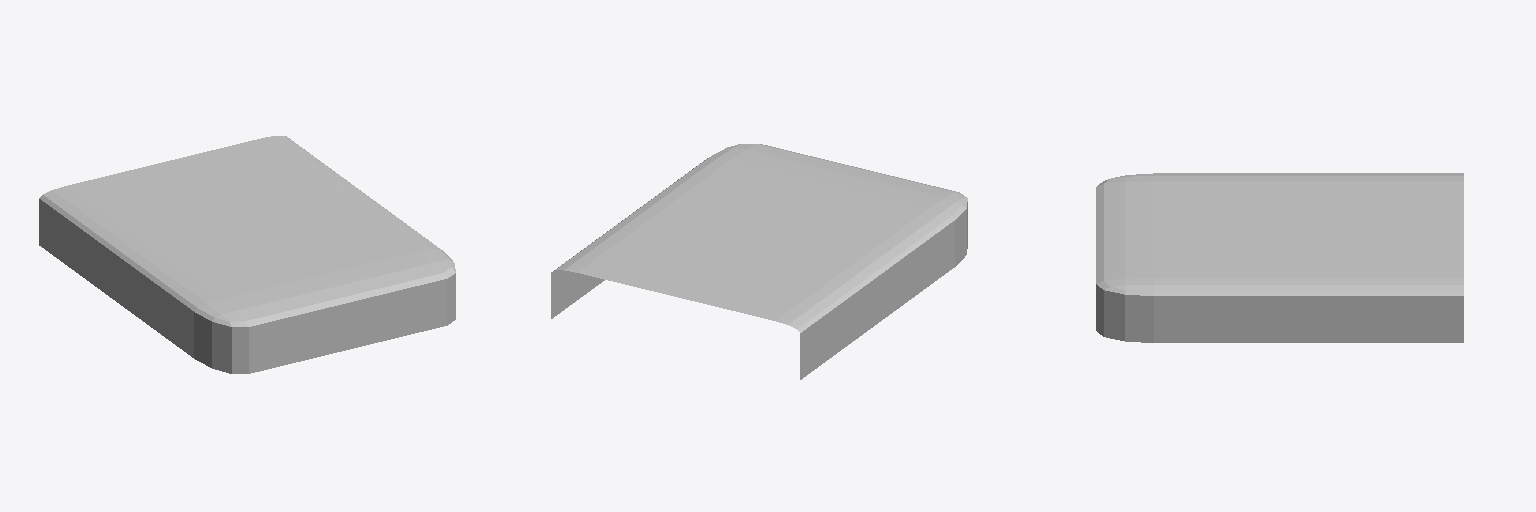
Rendered from cobertor.obj.
The picture shows the model from 3 angles: view 1: azimuth 30°, elevation 25°; view 2: azimuth 150°, elevation 25°; view 3: azimuth 270°, elevation 25°; orthographic projection.
Visible parts, largest first — view 1: Coberta_Cube.006; view 2: Coberta_Cube.006; view 3: Coberta_Cube.006.
Part boxes in pixels (x1,y1,x2,y2): Coberta_Cube.006: (39,136,455,373); Coberta_Cube.006: (551,144,967,379); Coberta_Cube.006: (1096,173,1463,342).
Bounding box in the file's own units: 2.07 × 0.4209 × 2.65.